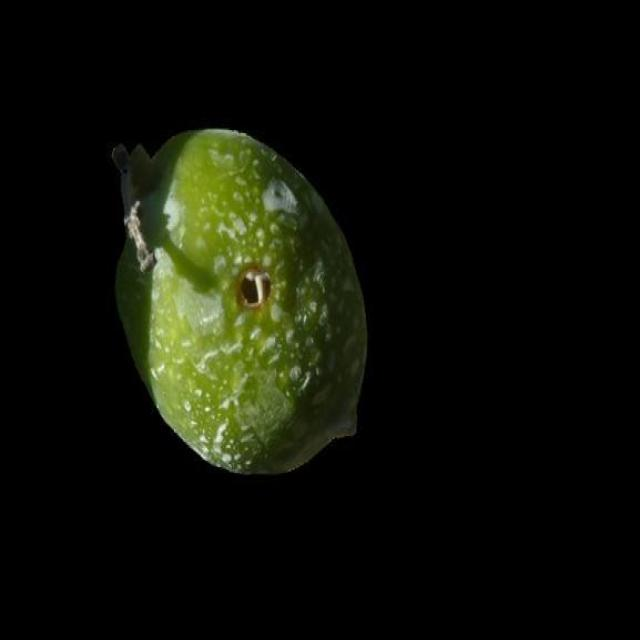Olive Fruit Fly: (112, 129, 366, 473)
